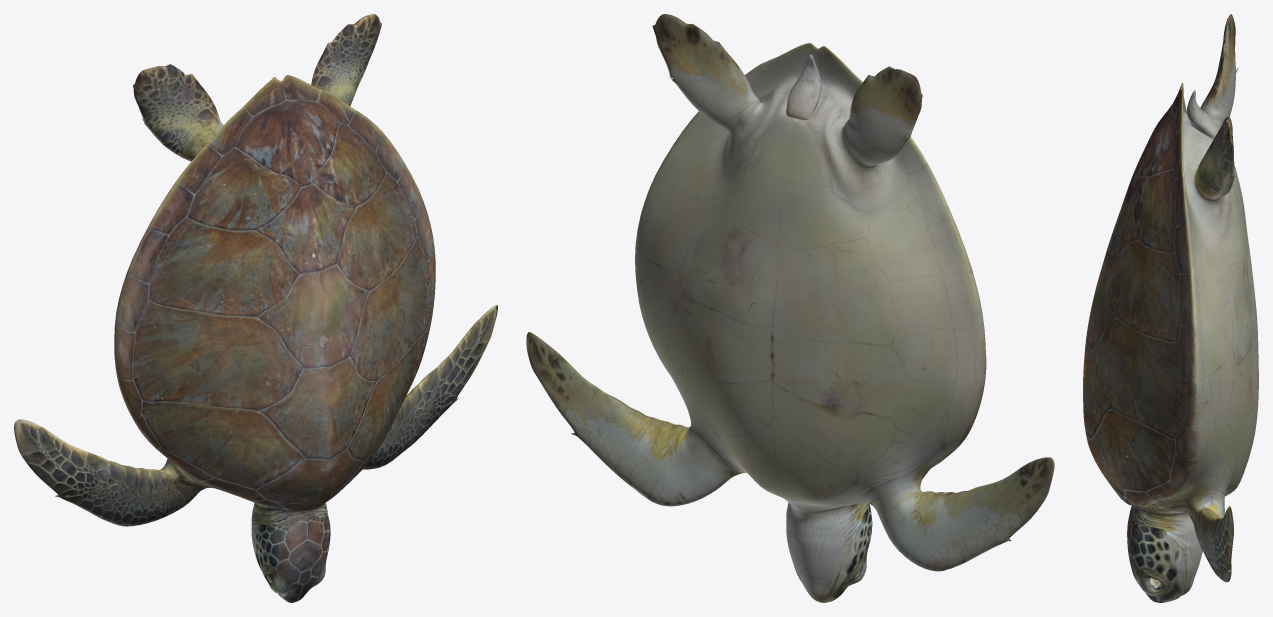
Rendered from turtle.glb.
3 views of the same model, side by side, from view 1: azimuth 30°, elevation 25°; view 2: azimuth 150°, elevation 25°; view 3: azimuth 270°, elevation 25° (orthographic). The views are drawn at different scales.
Visible parts, largest first — view 1: Object_43; view 2: Object_43; view 3: Object_43.
Boxes of the visible parts, x1,y1,x2,y2 form: Object_43: (14, 14, 497, 602); Object_43: (526, 14, 1054, 602); Object_43: (1083, 14, 1258, 602).
Size of the model in its own units: 0.6725 by 0.7107 by 0.212.
Materials: 1 (1 with a texture image).
